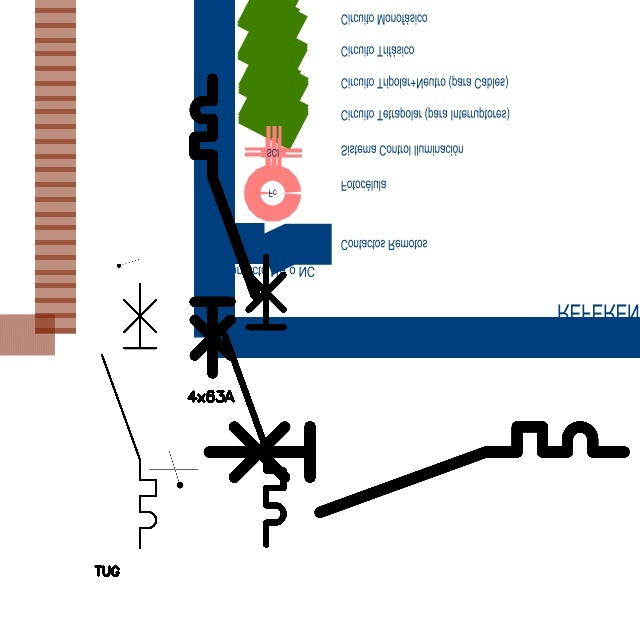interruptor_termomagnetico: (198, 416, 635, 523), (187, 71, 263, 381), (217, 250, 291, 552), (95, 277, 163, 555)
